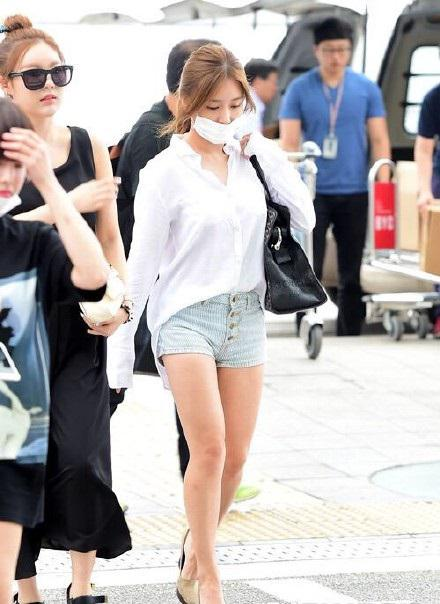NONE: (20, 58, 67, 115), (321, 40, 351, 74)
WRONG: (193, 91, 245, 143), (1, 158, 31, 218)
